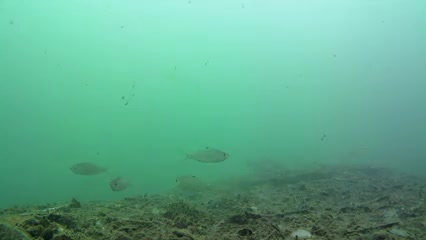smallfish: (69, 160, 110, 180), (190, 143, 229, 164), (106, 177, 129, 195)
